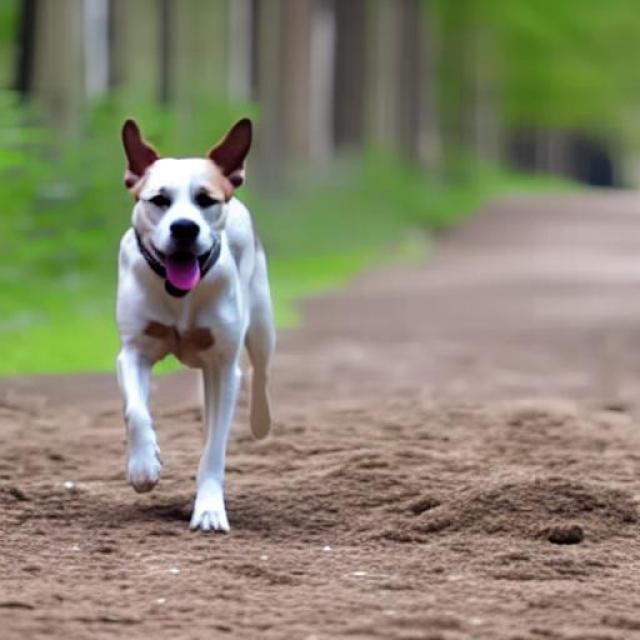Dog: (116, 116, 276, 534)
